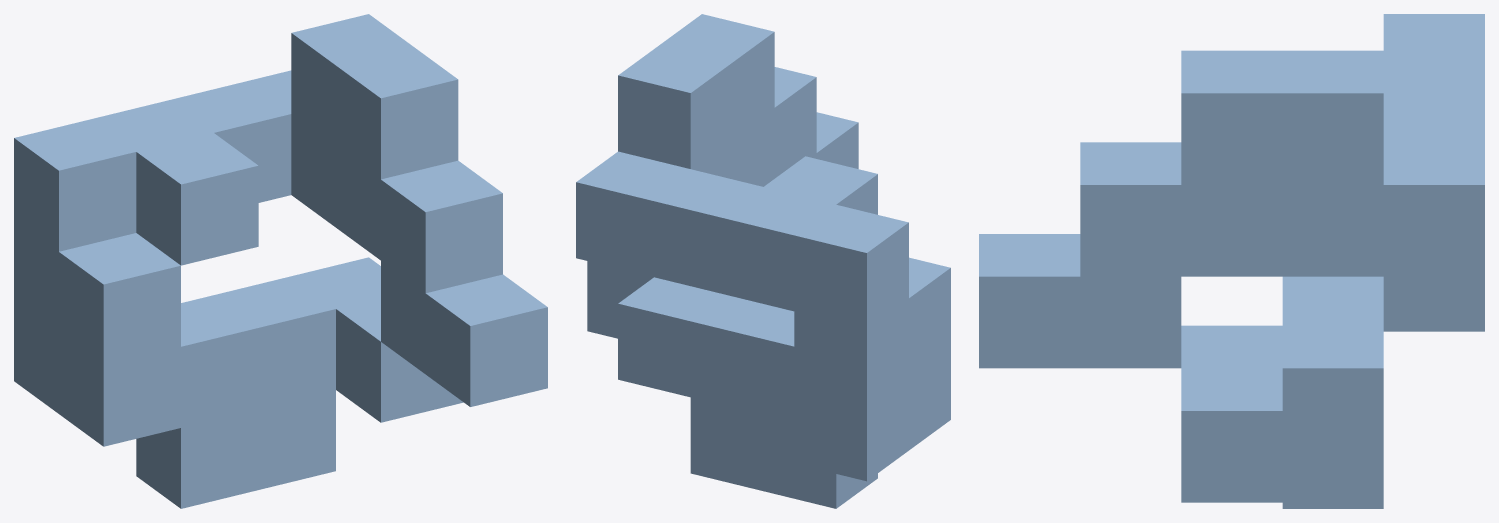
3 views of the same model, side by side, from view 1: azimuth 30°, elevation 25°; view 2: azimuth 150°, elevation 25°; view 3: azimuth 270°, elevation 25° (orthographic). The views are drawn at different scales.
Parts seen in each view (by area): view 1: _changes (2).004; view 2: _changes (2).004; view 3: _changes (2).004.
Boxes of the visible parts, box(x1,y1,x2,y2) form: _changes (2).004: box(14, 14, 547, 508); _changes (2).004: box(576, 14, 950, 508); _changes (2).004: box(979, 14, 1484, 508).
Size of the model in its own units: 0.1999 by 0.1999 by 0.1999.
